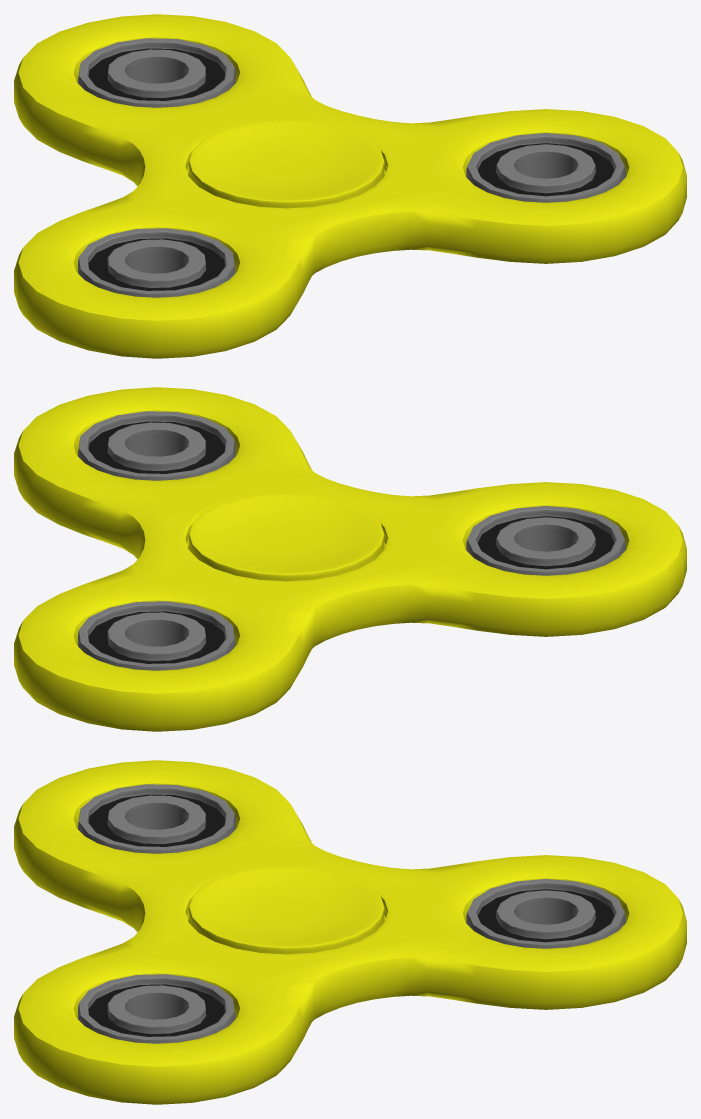
3 renders of one model, top to bottom at view 1: azimuth 30°, elevation 25°; view 2: azimuth 150°, elevation 25°; view 3: azimuth 270°, elevation 25°, orthographic.
Parts seen in each view (by area): view 1: Disc, Cylinder_2, Cylinder_3, Cylinder_1; view 2: Disc, Cylinder_1, Cylinder_2, Cylinder_3; view 3: Disc, Cylinder_3, Cylinder_1, Cylinder_2.
Part boxes in pixels (x1,y1,x2,y2): Disc: (14, 14, 686, 358); Cylinder_2: (466, 133, 625, 202); Cylinder_3: (78, 38, 235, 107); Cylinder_1: (78, 228, 235, 297); Disc: (14, 387, 686, 731); Cylinder_1: (466, 506, 625, 575); Cylinder_2: (78, 411, 235, 480); Cylinder_3: (78, 601, 235, 670); Disc: (14, 760, 686, 1104); Cylinder_3: (466, 879, 625, 948); Cylinder_1: (78, 784, 235, 853); Cylinder_2: (78, 974, 235, 1043).
Size of the model in its own units: 399 by 31.2 by 366.
